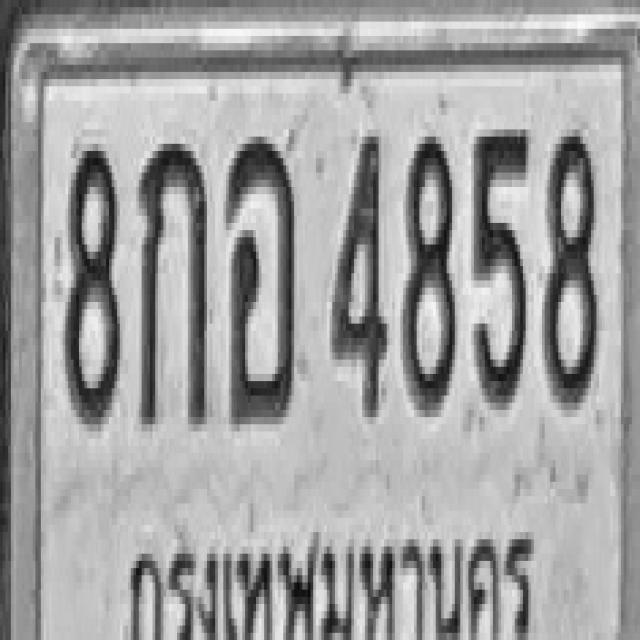10GorGai: (138, 137, 208, 424)
4: (331, 130, 385, 417)
5: (471, 122, 528, 410)
52OrAng: (224, 133, 296, 421)
8: (62, 140, 120, 428), (402, 129, 456, 410), (542, 126, 596, 406)
Bangkok: (120, 518, 534, 640)
